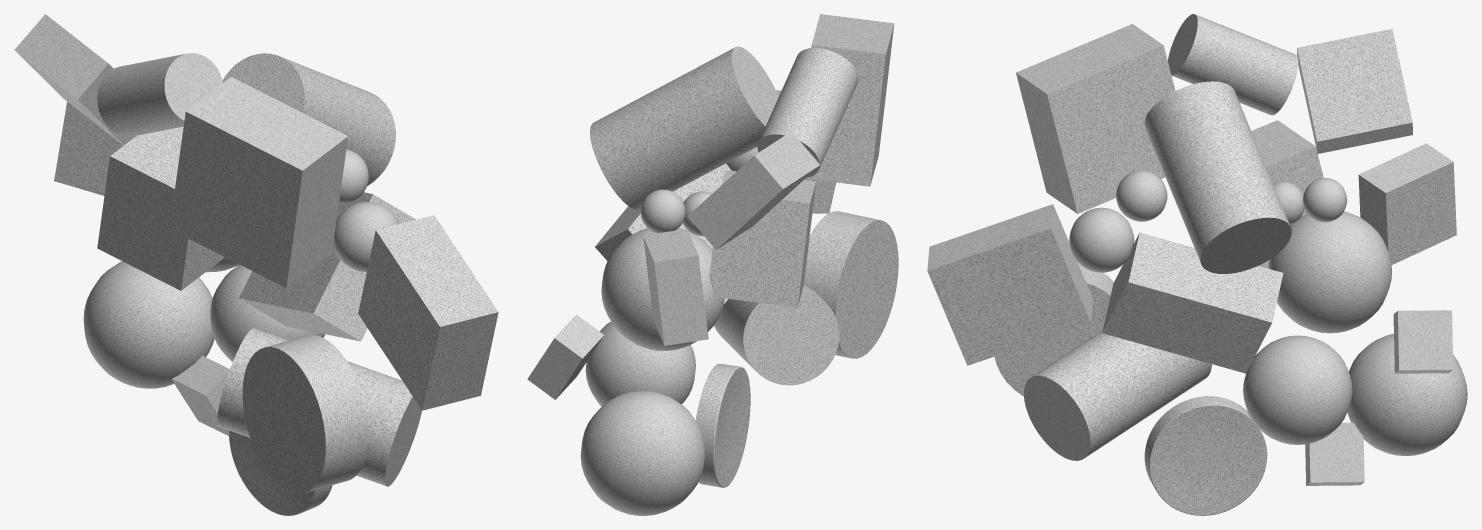
The model's file is shapes.glb.
3 renders of one model, left to right at view 1: azimuth 30°, elevation 25°; view 2: azimuth 150°, elevation 25°; view 3: azimuth 270°, elevation 25°, orthographic. The views are drawn at different scales.
Parts seen in each view (by area): view 1: cube3, cube2, cylinder7, pSphere3, cube7, cylinder6, cylinder3, cylinder5, cube1, cube4, cube6, pSphere2 (+4 smaller); view 2: cylinder6, pSphere3, cylinder7, cube7, cube3, cylinder3, cylinder5, cube4, pSphere1, cube6, pSphere2, petriDish3 (+5 smaller); view 3: cube3, cylinder6, cube2, cube1, cylinder3, petriDish3, pSphere1, cube4, pSphere3, pSphere2, cube6, cylinder5 (+8 smaller).
Boxes of the visible parts, x1,y1,x2,y2 form: cube3: [169, 77, 348, 287]; cube2: [358, 215, 498, 410]; cylinder7: [242, 335, 368, 493]; pSphere3: [83, 261, 214, 388]; cube7: [97, 126, 224, 290]; cylinder6: [222, 53, 395, 185]; cylinder3: [217, 328, 421, 486]; cylinder5: [97, 53, 222, 136]; cube1: [239, 192, 415, 341]; cube4: [14, 14, 136, 145]; cube6: [54, 101, 123, 195]; pSphere2: [210, 265, 324, 361]; cylinder6: [590, 46, 778, 209]; pSphere3: [580, 391, 705, 515]; cylinder7: [804, 211, 898, 358]; cube7: [709, 170, 815, 307]; cube3: [806, 14, 894, 186]; cylinder3: [714, 285, 839, 385]; cylinder5: [757, 47, 858, 177]; cube4: [687, 131, 819, 249]; pSphere1: [601, 228, 724, 350]; cube6: [643, 228, 708, 345]; pSphere2: [585, 321, 695, 406]; petriDish3: [695, 363, 750, 487]; cube3: [1016, 24, 1175, 213]; cylinder6: [1144, 81, 1291, 273]; cube2: [927, 204, 1092, 365]; cube1: [1102, 232, 1283, 373]; cylinder3: [1024, 330, 1211, 460]; petriDish3: [1144, 396, 1267, 515]; pSphere1: [1268, 211, 1391, 333]; cube4: [1297, 29, 1412, 153]; pSphere3: [1347, 333, 1467, 455]; pSphere2: [1243, 335, 1352, 444]; cube6: [1358, 143, 1456, 264]; cylinder5: [1168, 14, 1298, 115].
Size of the model in its own units: 1.09 by 1.77 by 1.93.
1 material, 1 textured.
